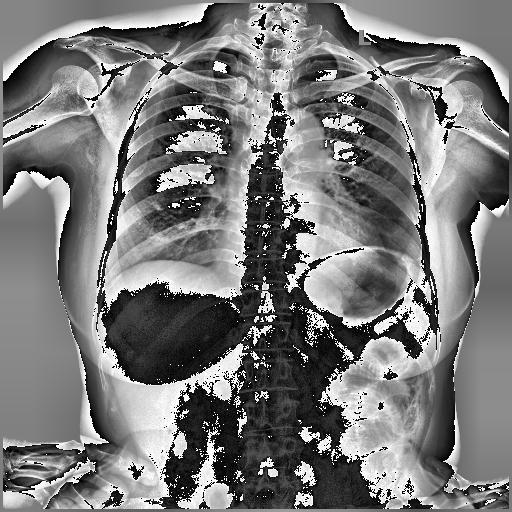0- Aortic enlargement: (276, 106, 326, 172), (272, 110, 324, 168), (277, 109, 324, 159)
3- Cardiomegaly: (214, 206, 386, 282)
